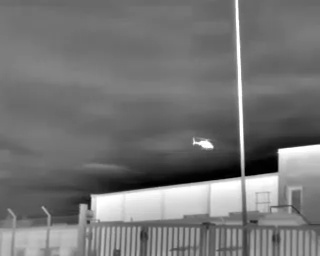HELICOPTER: (189, 132, 219, 155)
